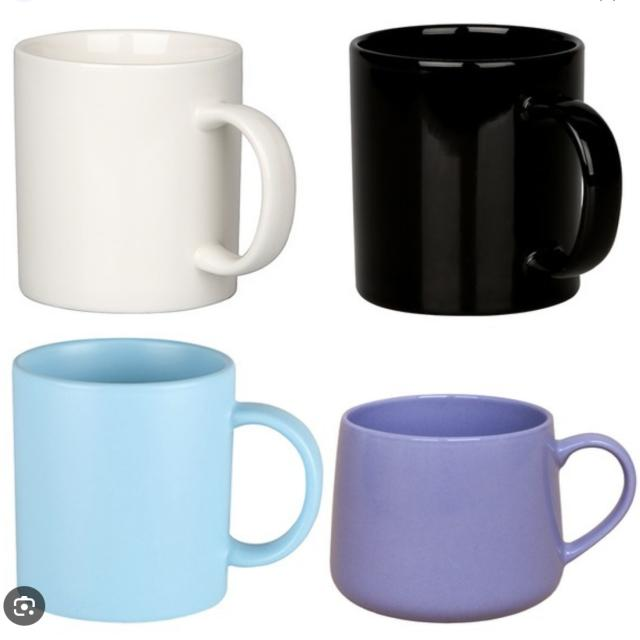recyclable: (2, 16, 305, 329), (341, 19, 631, 328), (305, 375, 640, 628)
